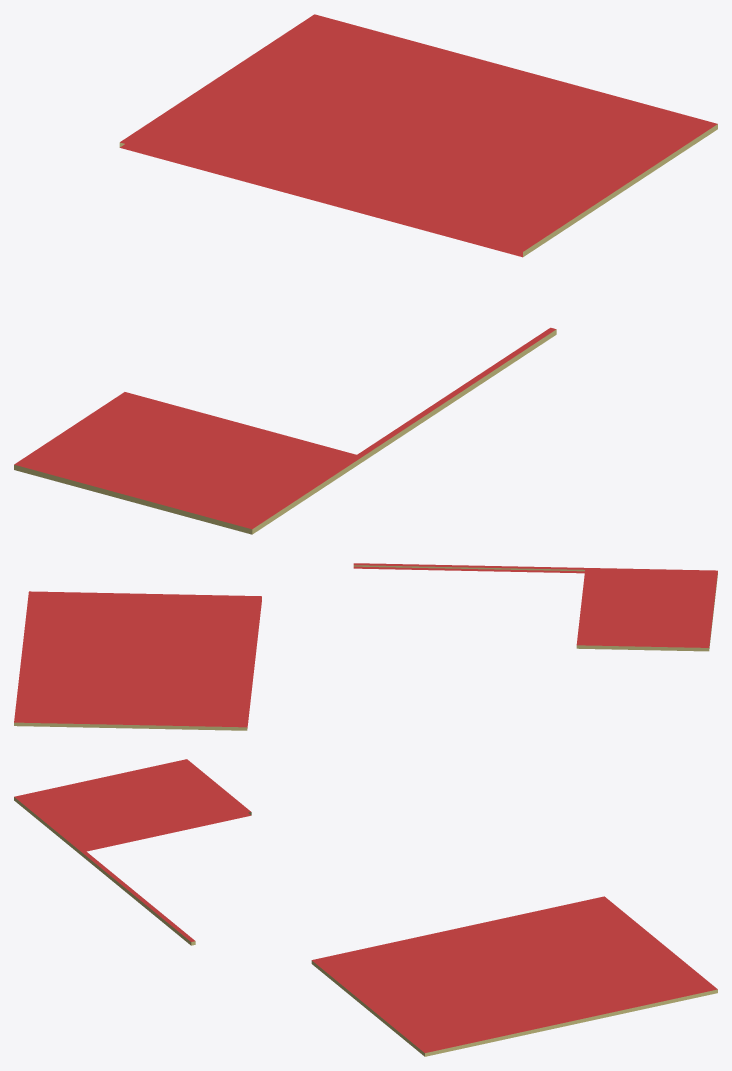
3 views of the same model, one above another, from view 1: azimuth 30°, elevation 25°; view 2: azimuth 150°, elevation 25°; view 3: azimuth 270°, elevation 25° (orthographic). The views are drawn at different scales.
Size of the model in its own units: 17.1 by 17.3 by 0.1.
